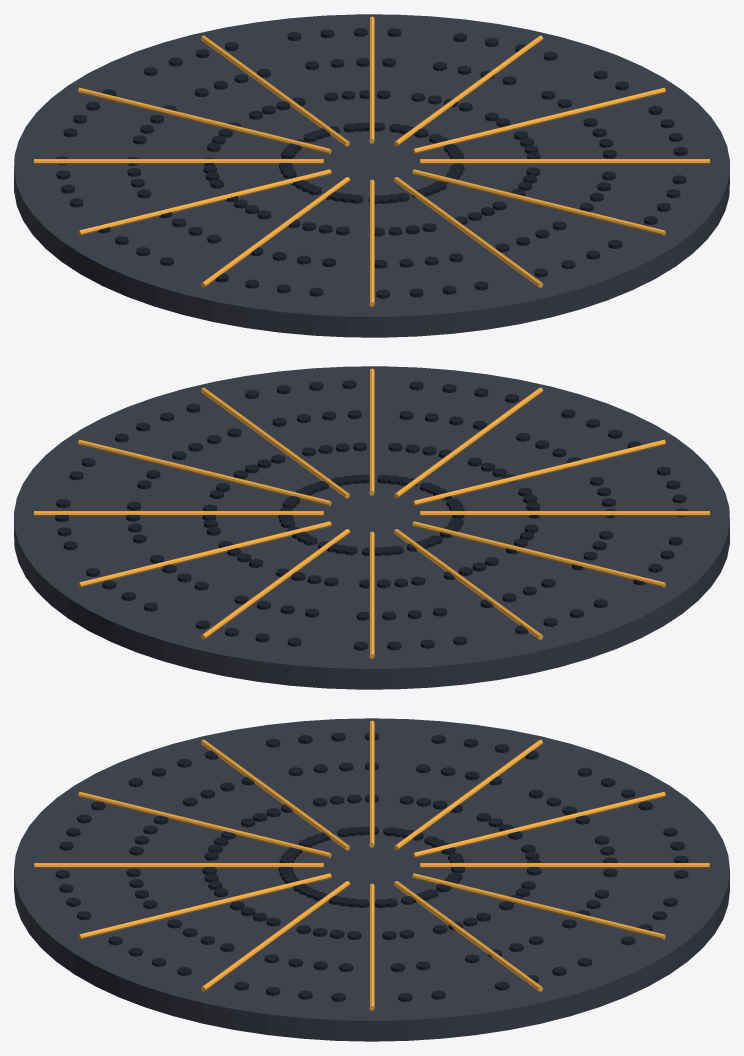
The model's file is 09_L77_BulkCopperPolishingPad.fbx.
3 renders of one model, top to bottom at view 1: azimuth 30°, elevation 25°; view 2: azimuth 150°, elevation 25°; view 3: azimuth 270°, elevation 25°, orthographic.
Parts seen in each view (by area): view 1: BulkCopperPolishingPad_Part_0000, BulkCopperPolishingPad_Part_0186, BulkCopperPolishingPad_Part_0192, BulkCopperPolishingPad_Part_0187, BulkCopperPolishingPad_Part_0185, BulkCopperPolishingPad_Part_0193, BulkCopperPolishingPad_Part_0191, BulkCopperPolishingPad_Part_0188, BulkCopperPolishingPad_Part_0194, BulkCopperPolishingPad_Part_0196, BulkCopperPolishingPad_Part_0190, BulkCopperPolishingPad_Part_0189 (+1 smaller); view 2: BulkCopperPolishingPad_Part_0000, BulkCopperPolishingPad_Part_0190, BulkCopperPolishingPad_Part_0196, BulkCopperPolishingPad_Part_0189, BulkCopperPolishingPad_Part_0185, BulkCopperPolishingPad_Part_0195, BulkCopperPolishingPad_Part_0191, BulkCopperPolishingPad_Part_0188, BulkCopperPolishingPad_Part_0186, BulkCopperPolishingPad_Part_0194, BulkCopperPolishingPad_Part_0192, BulkCopperPolishingPad_Part_0187 (+1 smaller); view 3: BulkCopperPolishingPad_Part_0000, BulkCopperPolishingPad_Part_0188, BulkCopperPolishingPad_Part_0194, BulkCopperPolishingPad_Part_0187, BulkCopperPolishingPad_Part_0195, BulkCopperPolishingPad_Part_0189, BulkCopperPolishingPad_Part_0193, BulkCopperPolishingPad_Part_0186, BulkCopperPolishingPad_Part_0196, BulkCopperPolishingPad_Part_0190, BulkCopperPolishingPad_Part_0192, BulkCopperPolishingPad_Part_0185 (+1 smaller).
Part boxes in pixels (x1,y1,x2,y2): BulkCopperPolishingPad_Part_0000: (14,14,729,337); BulkCopperPolishingPad_Part_0186: (420,159,709,164); BulkCopperPolishingPad_Part_0192: (34,159,323,164); BulkCopperPolishingPad_Part_0187: (412,169,665,235); BulkCopperPolishingPad_Part_0185: (412,87,665,153); BulkCopperPolishingPad_Part_0193: (78,87,331,153); BulkCopperPolishingPad_Part_0191: (78,169,331,235); BulkCopperPolishingPad_Part_0188: (394,177,543,287); BulkCopperPolishingPad_Part_0194: (200,35,349,146); BulkCopperPolishingPad_Part_0196: (394,35,543,146); BulkCopperPolishingPad_Part_0190: (200,177,349,287); BulkCopperPolishingPad_Part_0189: (369,179,374,306); BulkCopperPolishingPad_Part_0000: (14,366,729,689); BulkCopperPolishingPad_Part_0190: (420,511,709,516); BulkCopperPolishingPad_Part_0196: (34,511,323,516); BulkCopperPolishingPad_Part_0189: (412,439,665,505); BulkCopperPolishingPad_Part_0185: (78,439,331,505); BulkCopperPolishingPad_Part_0195: (78,521,331,587); BulkCopperPolishingPad_Part_0191: (412,521,665,587); BulkCopperPolishingPad_Part_0188: (394,387,543,498); BulkCopperPolishingPad_Part_0186: (200,387,349,498); BulkCopperPolishingPad_Part_0194: (200,529,349,639); BulkCopperPolishingPad_Part_0192: (394,529,543,639); BulkCopperPolishingPad_Part_0187: (369,368,374,495); BulkCopperPolishingPad_Part_0000: (14,718,729,1041); BulkCopperPolishingPad_Part_0188: (34,863,323,868); BulkCopperPolishingPad_Part_0194: (420,863,709,868); BulkCopperPolishingPad_Part_0187: (78,873,331,939); BulkCopperPolishingPad_Part_0195: (412,873,665,939); BulkCopperPolishingPad_Part_0189: (78,792,331,857); BulkCopperPolishingPad_Part_0193: (412,792,665,857); BulkCopperPolishingPad_Part_0186: (201,881,349,991); BulkCopperPolishingPad_Part_0196: (394,881,542,991); BulkCopperPolishingPad_Part_0190: (200,739,350,850); BulkCopperPolishingPad_Part_0192: (393,739,543,850); BulkCopperPolishingPad_Part_0185: (369,883,374,1010).
Bounding box in the file's own units: 282 × 11.8 × 282.
